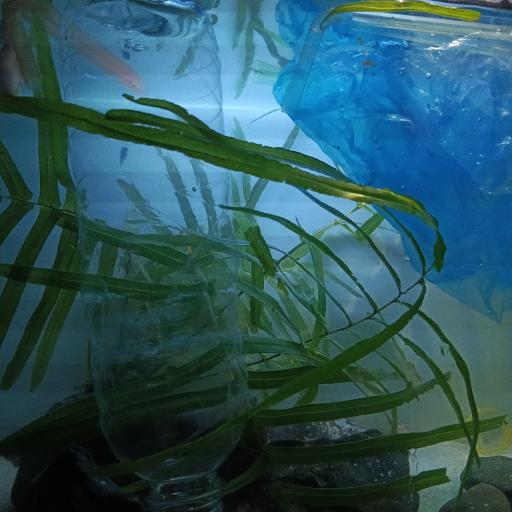plastic_bag: (269, 0, 512, 325)
plastic_bottle: (40, 0, 251, 512)
plastic_straw: (282, 0, 512, 114)
